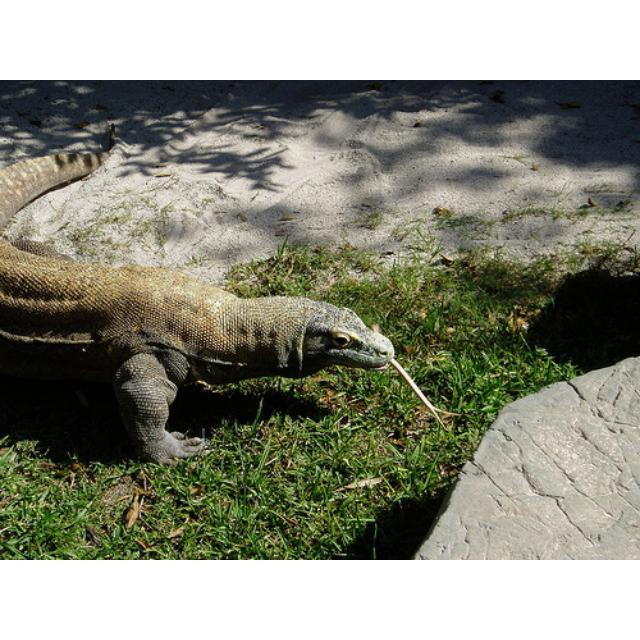KomodoDragon: (1, 144, 466, 470)
